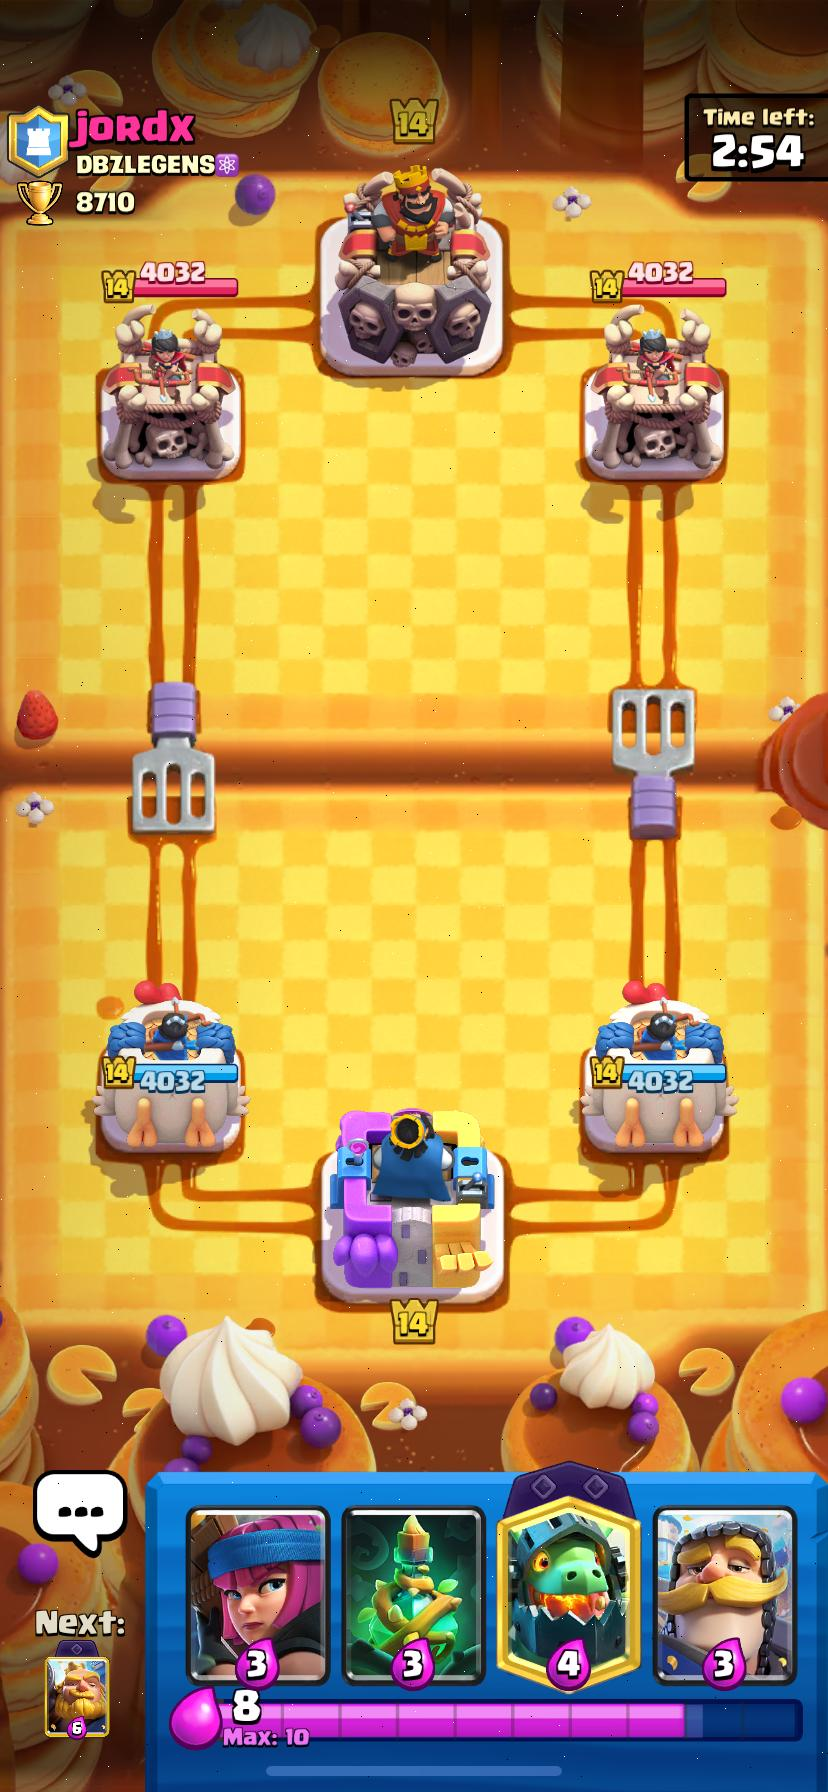EKingTower: (320, 166, 502, 376)
EnemyPrincessTower: (584, 304, 724, 480), (101, 309, 240, 480)
OwnKingTower: (321, 1109, 503, 1303)
OwnPrincessTower: (580, 982, 735, 1154), (93, 983, 248, 1151)
